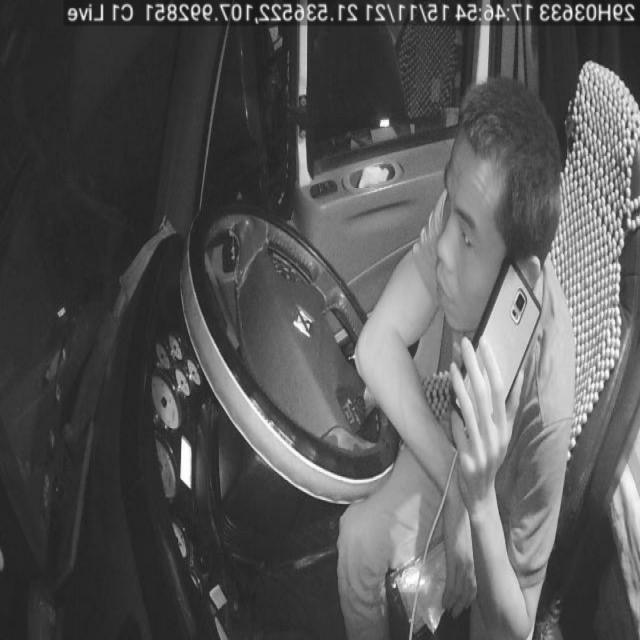phone: (451, 264, 538, 431)
